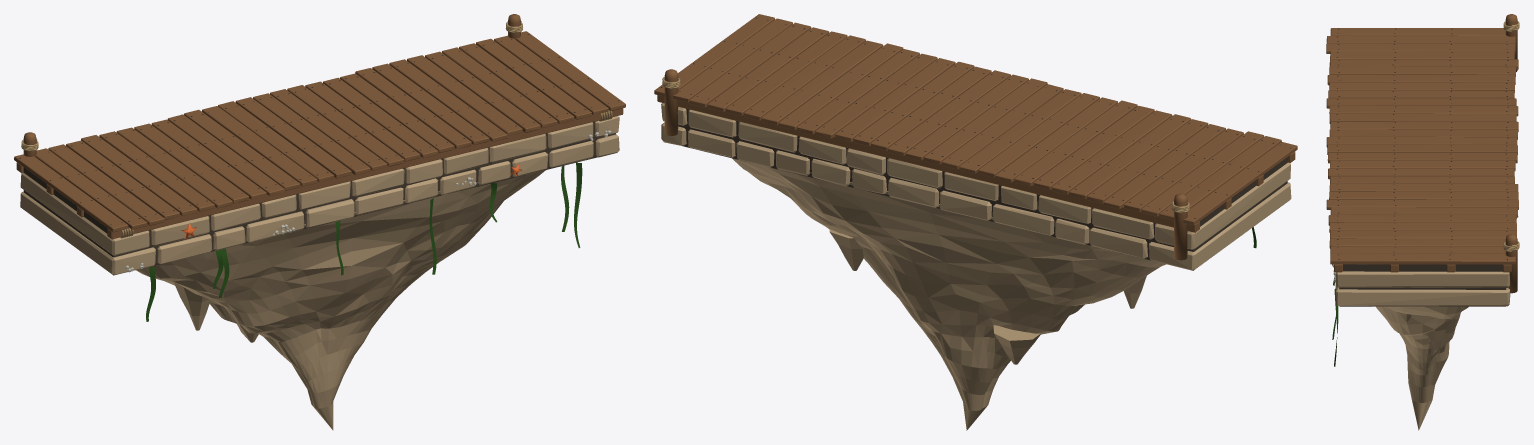
File: stage.glb
The picture shows the model from 3 angles, left to right: view 1: azimuth 30°, elevation 25°; view 2: azimuth 150°, elevation 25°; view 3: azimuth 270°, elevation 25°; orthographic projection. The views are drawn at different scales.
Visible parts, largest first — view 1: Stage; view 2: Stage; view 3: Stage.
Part boxes in pixels (x1,y1,x2,y2): Stage: (14,14,625,430); Stage: (654,14,1297,430); Stage: (1326,14,1519,430).
Bounding box in the file's own units: 13.67 × 8.22 × 4.79.
